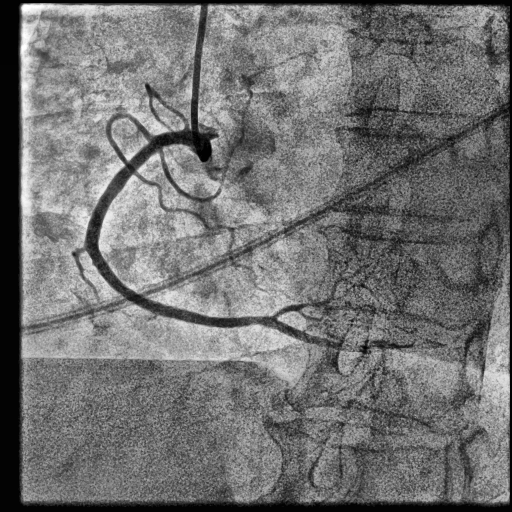pborca: (273, 277, 371, 318)
pda: (270, 317, 370, 354)
rca: (86, 131, 270, 328)
